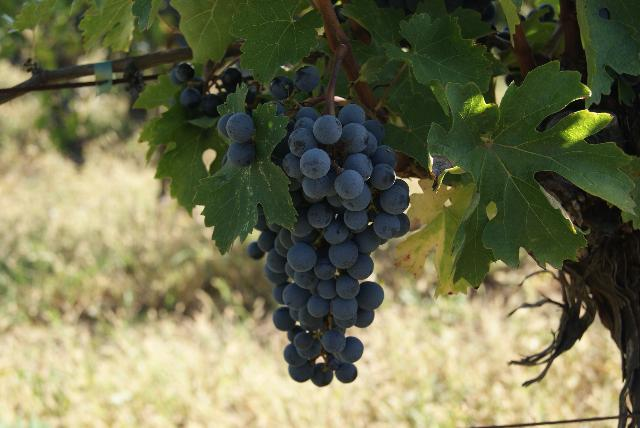grapes: (248, 104, 410, 386)
